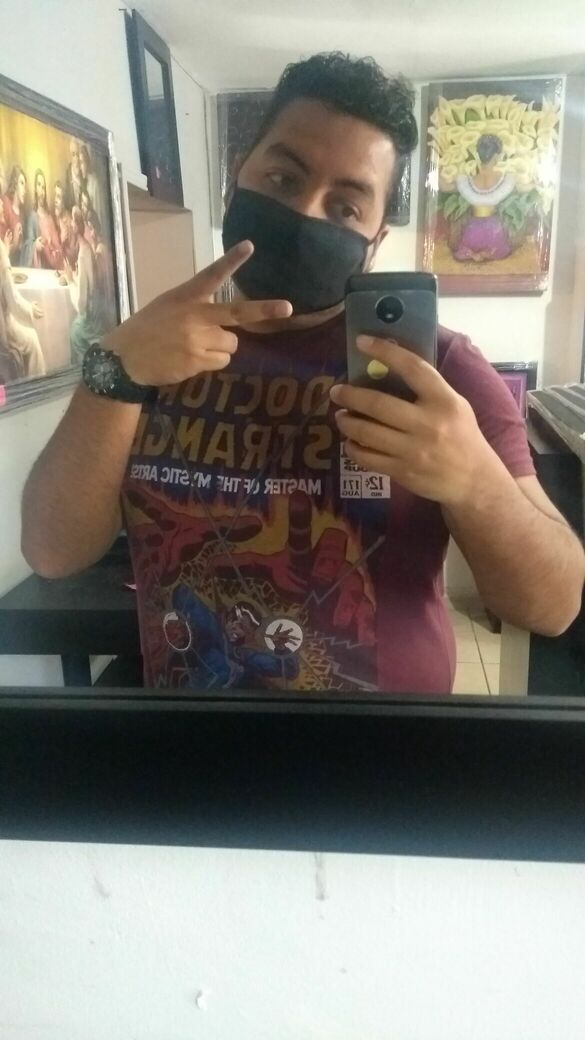Yoshi: (193, 30, 463, 338)
